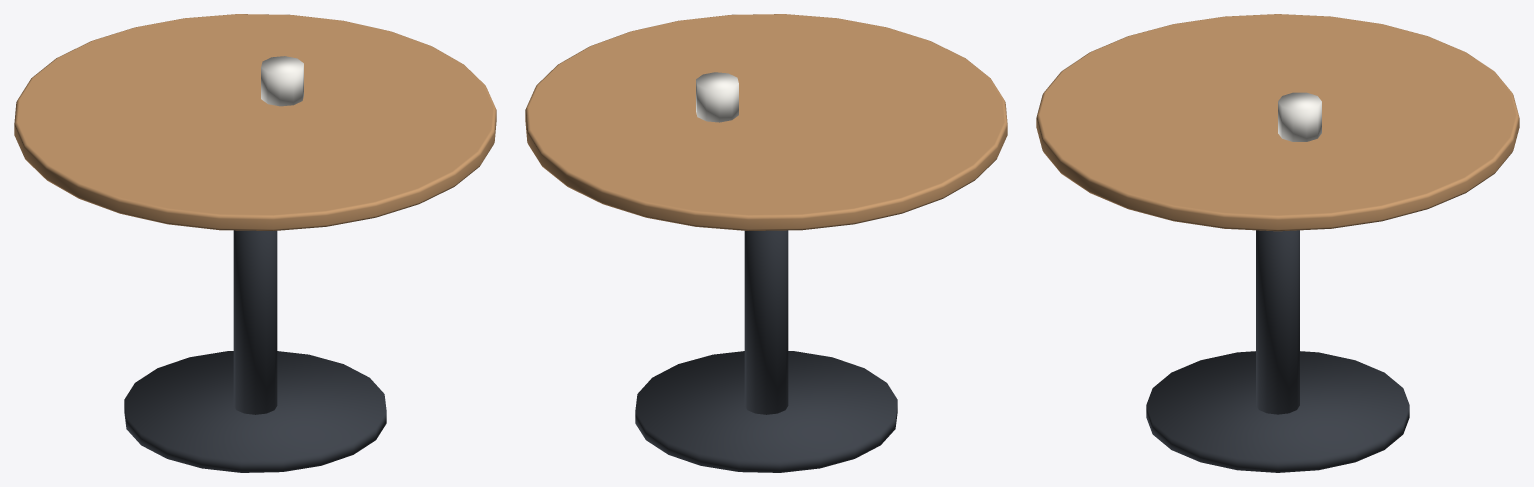
File: KitchenTable.fbx
The picture shows the model from 3 angles, left to right: view 1: azimuth 30°, elevation 25°; view 2: azimuth 150°, elevation 25°; view 3: azimuth 270°, elevation 25°; orthographic projection.
Parts seen in each view (by area): view 1: KitchenTableBody; view 2: KitchenTableBody; view 3: KitchenTableBody.
Part boxes in pixels (x1,y1,x2,y2): KitchenTableBody: [14, 14, 496, 472]; KitchenTableBody: [525, 14, 1007, 472]; KitchenTableBody: [1036, 14, 1519, 472].
Size of the model in its own units: 1.1 by 0.84 by 1.1.
